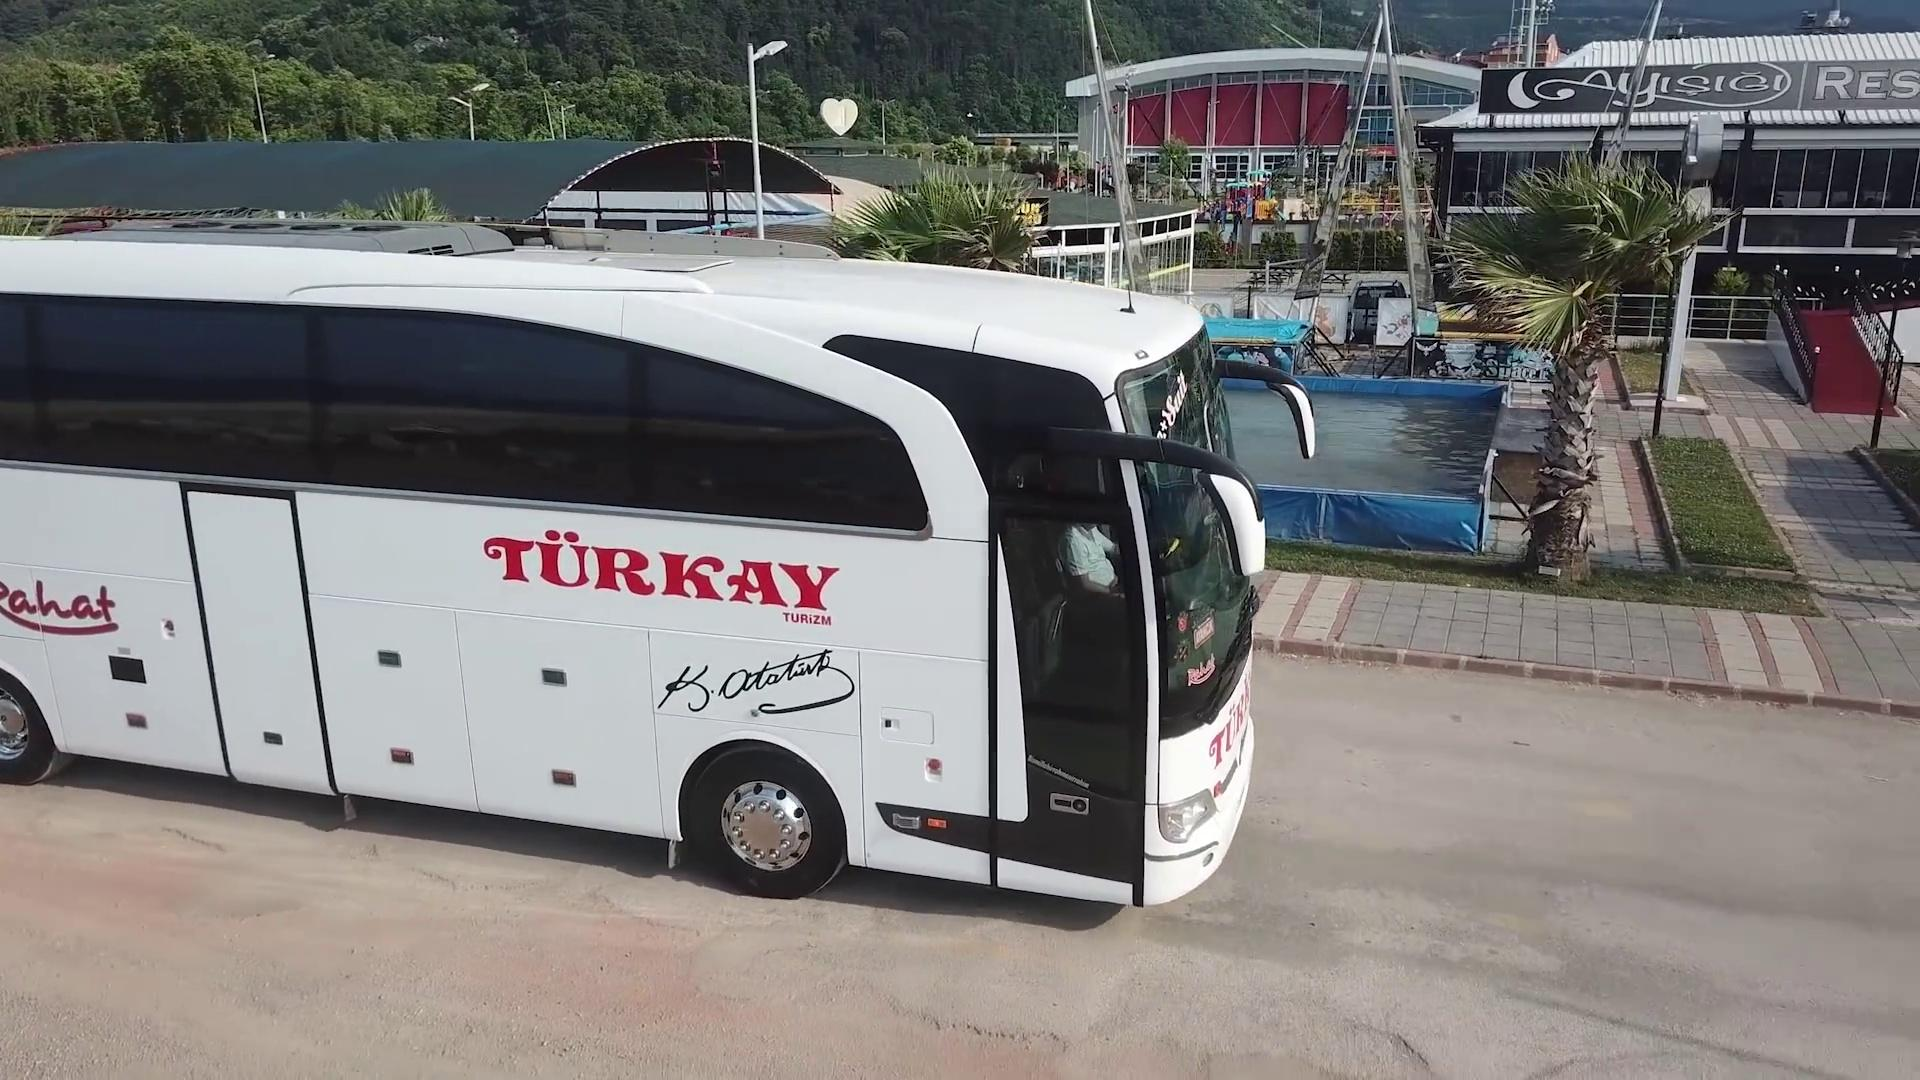Bus: (0, 216, 1313, 909)
